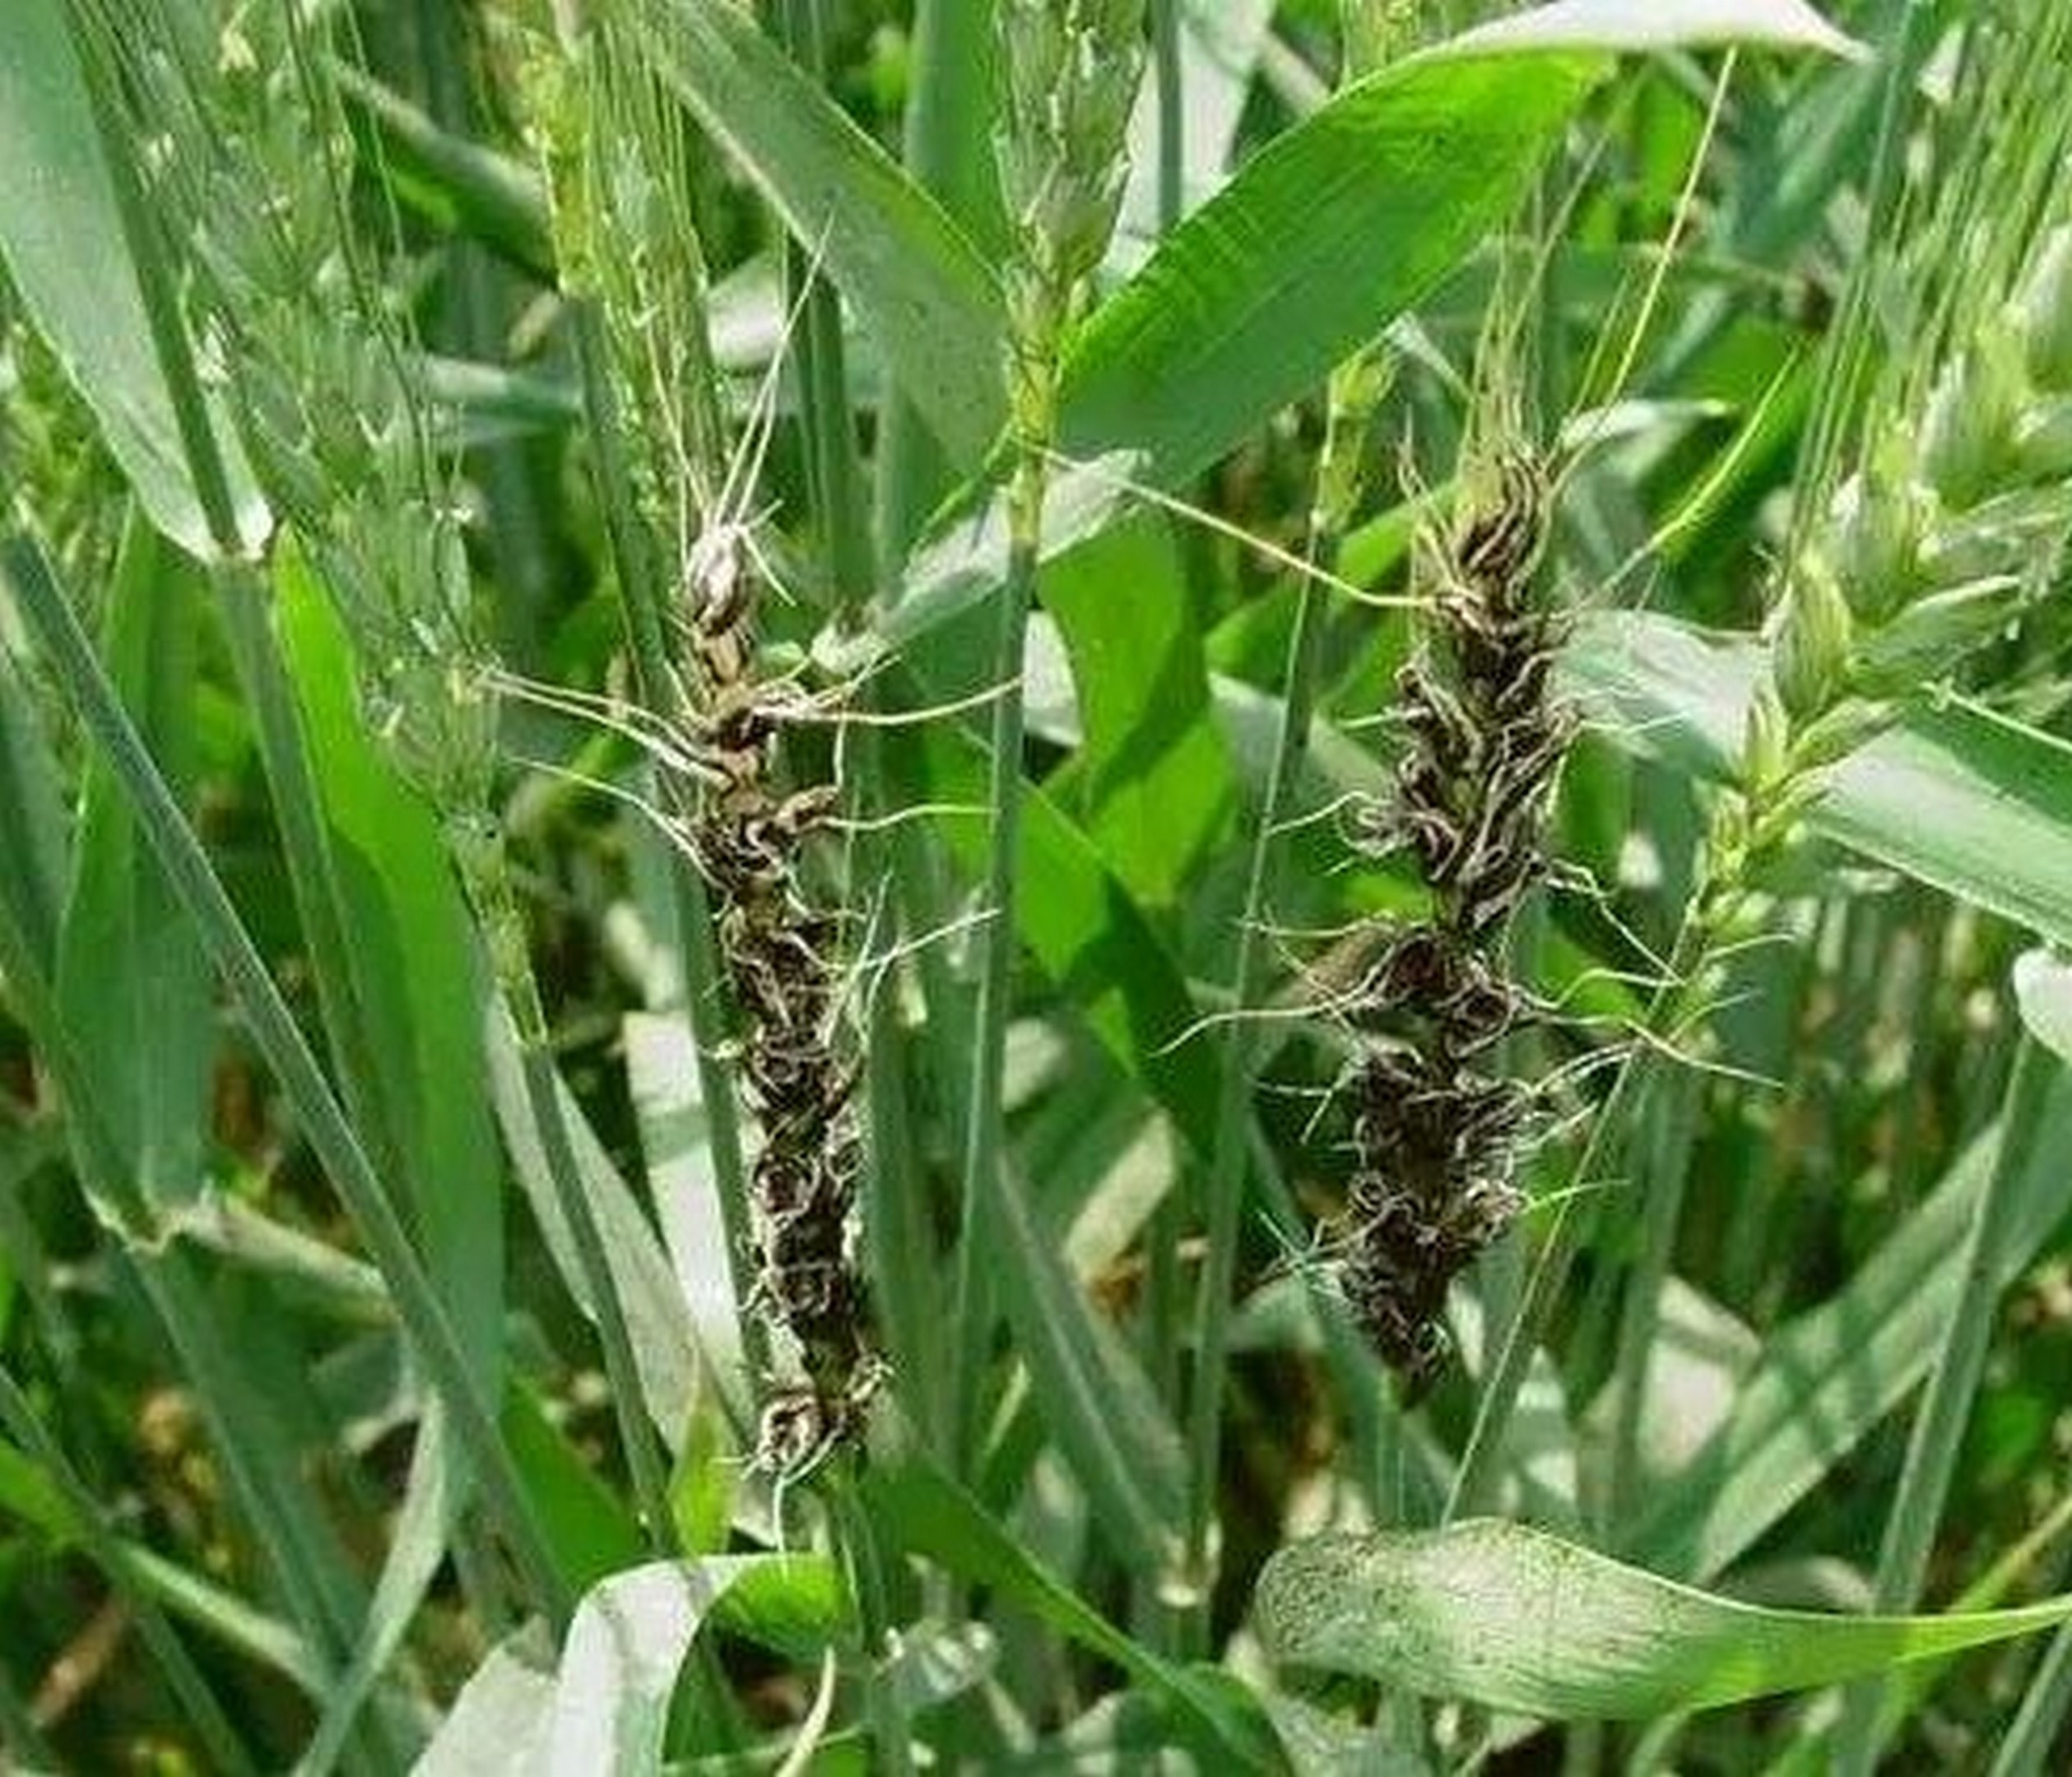Wheat Loose Smut: (1309, 439, 1628, 1354), (654, 562, 899, 1414)
